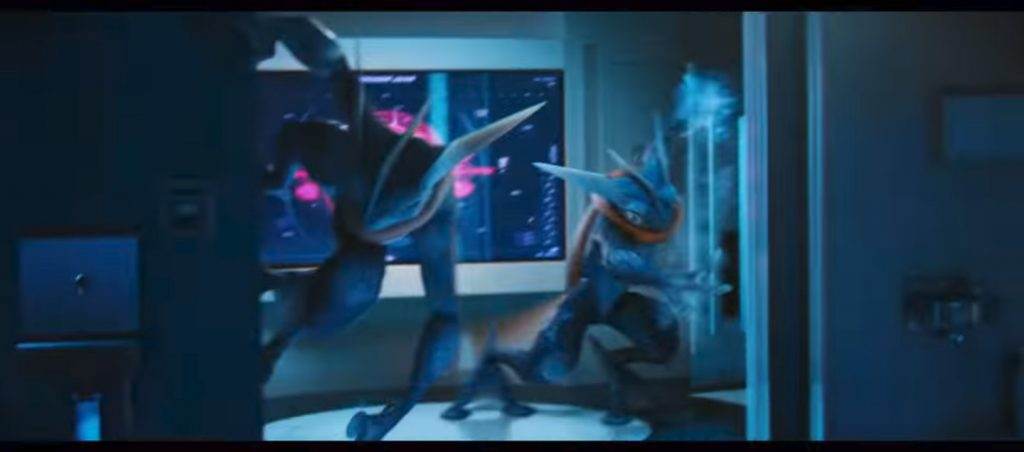greninja: (244, 8, 549, 450), (444, 128, 740, 440)
